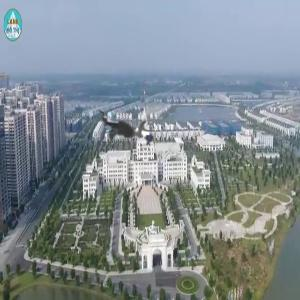drone: (23, 25, 247, 249)
